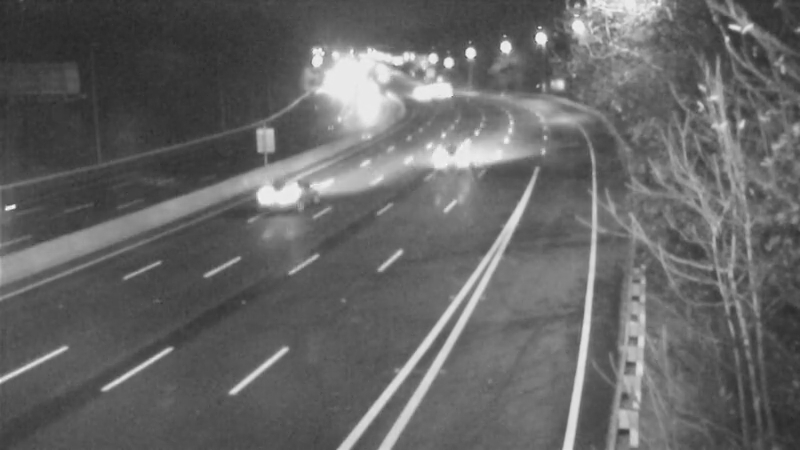vehicle: (398, 115, 478, 195), (245, 156, 325, 236), (1, 171, 66, 251), (397, 67, 447, 117), (408, 73, 458, 123)
